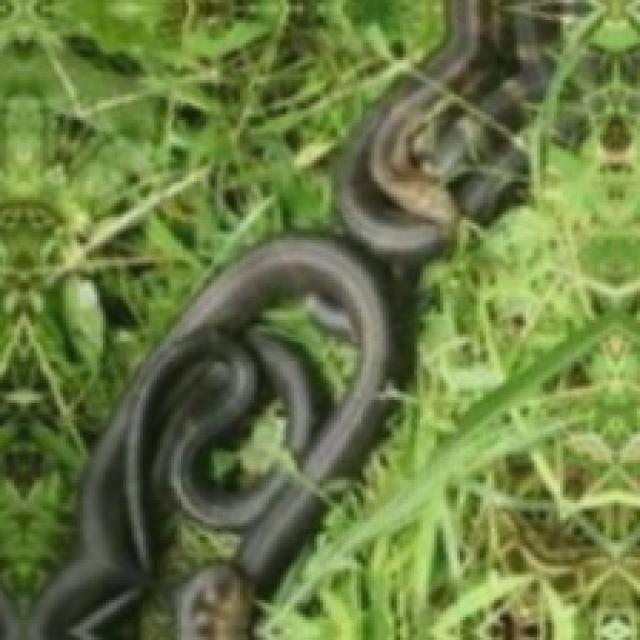king cobra: (0, 0, 443, 626), (0, 0, 443, 623), (257, 0, 637, 637), (349, 446, 571, 637)
